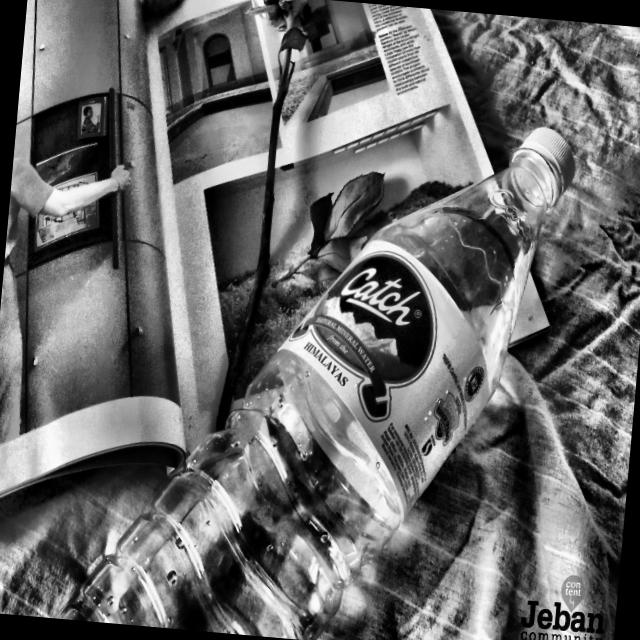waterbottle: (64, 82, 585, 640)
